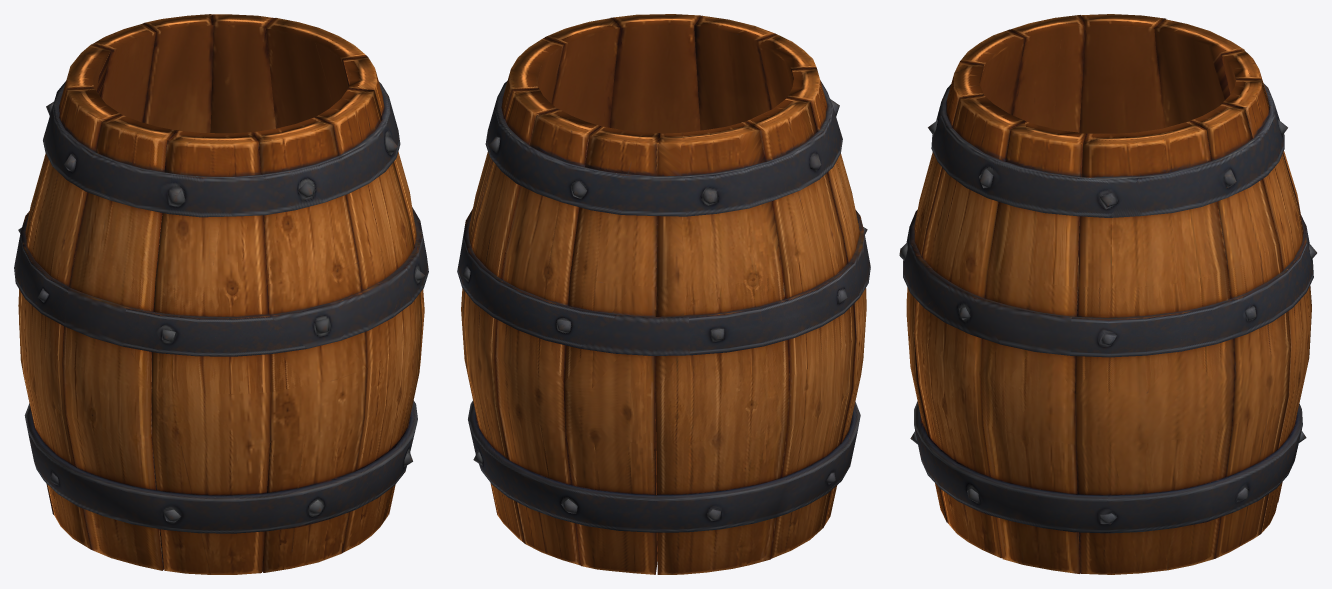
Rendered from barrel_nolid.glb.
3 renders of one model, left to right at view 1: azimuth 30°, elevation 25°; view 2: azimuth 150°, elevation 25°; view 3: azimuth 270°, elevation 25°, orthographic.
Size of the model in its own units: 0.9062 by 1 by 0.8945.
1 material, 1 textured.
